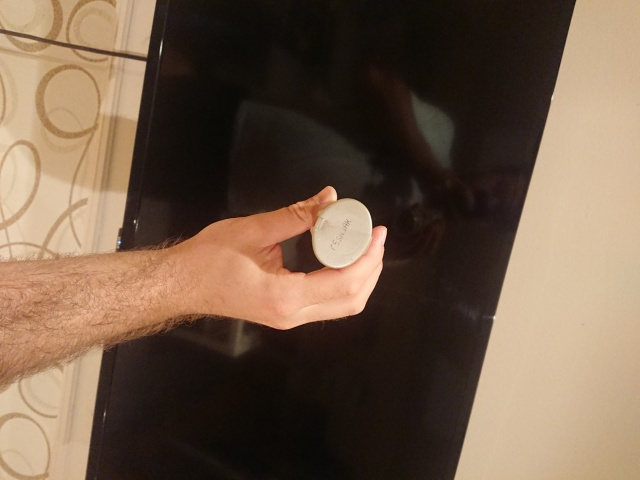Kotanyi Garlic Granules 70g: (308, 195, 375, 270)
